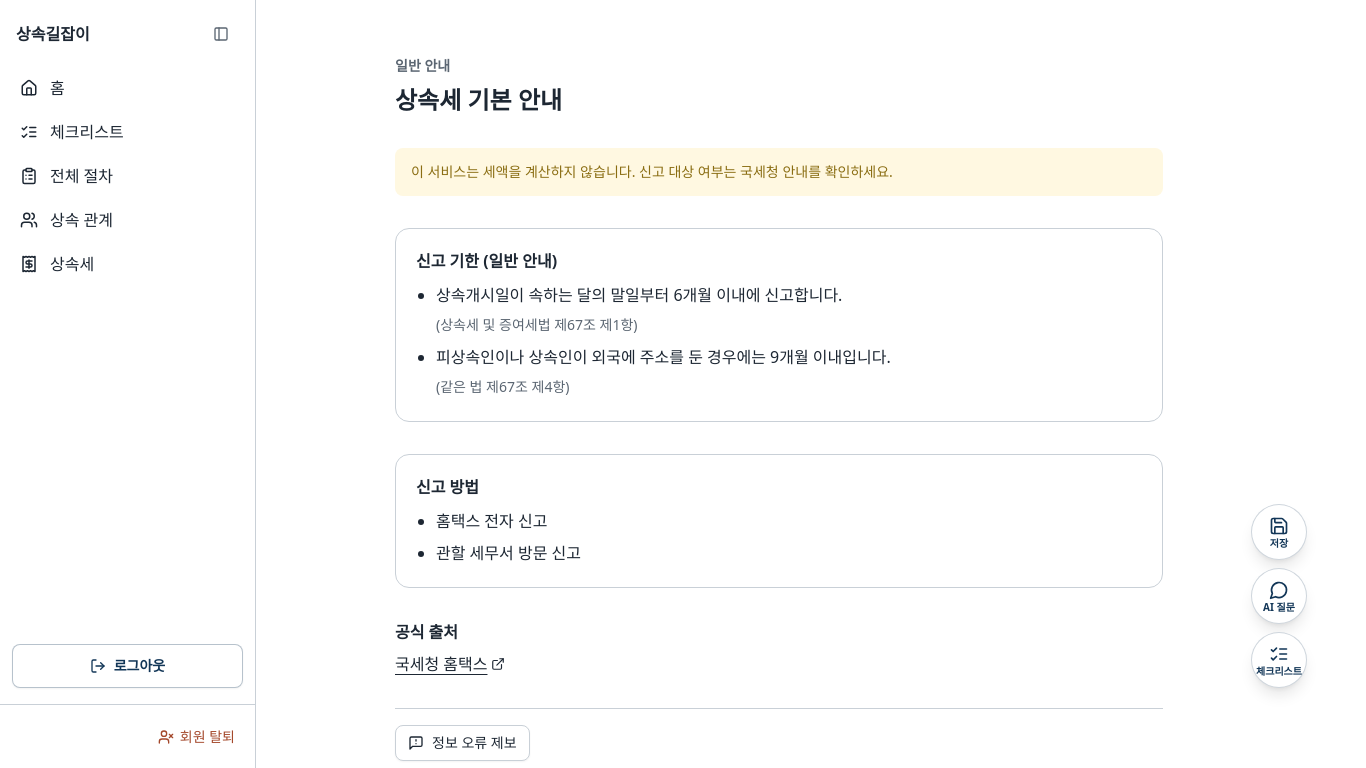
사이드바 계정 칸 › [로그아웃]을 누르면 로그아웃되고 [로그인]으로 돌아간다
Click the button "로그아웃" at {"x": 128, "y": 666}, box x1=12 y1=644 x2=243 y2=688
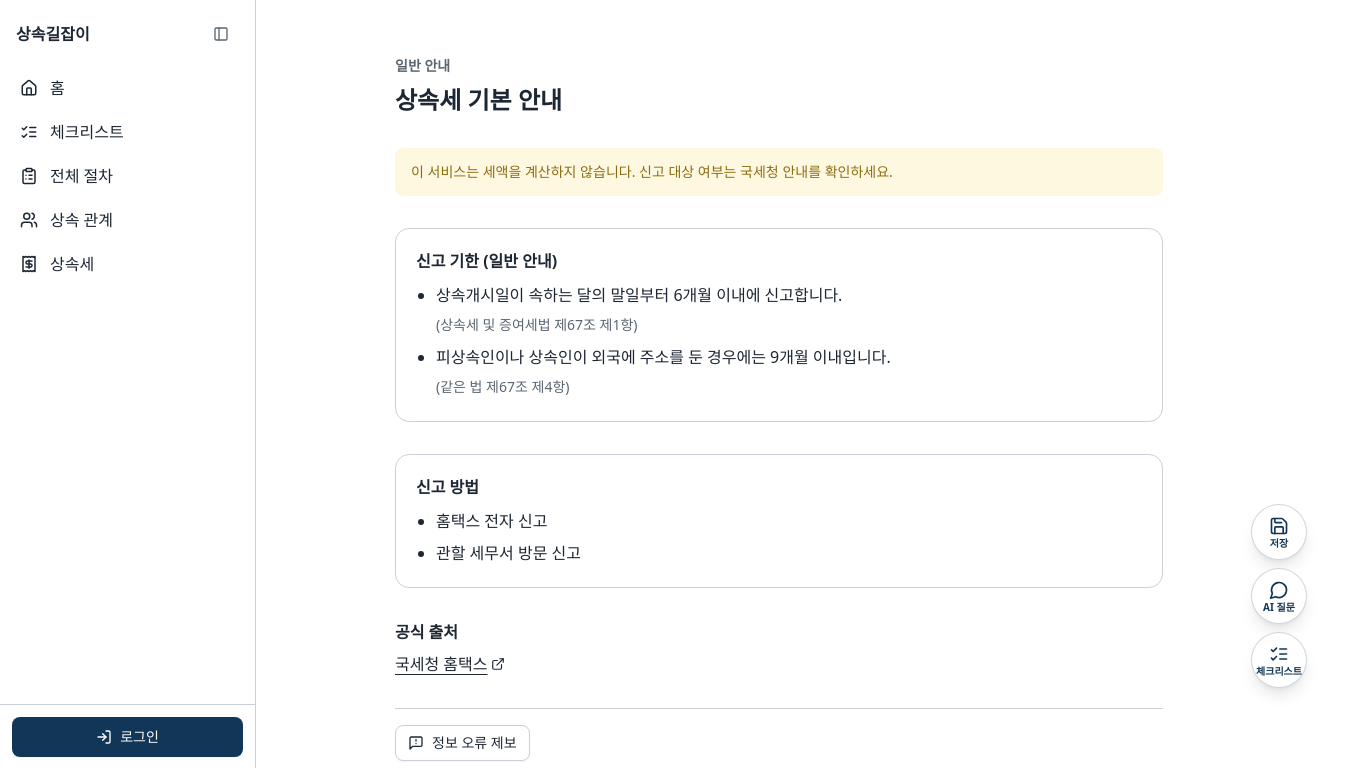
Expected: the button "로그인" is shown, x1=12 y1=716 x2=243 y2=756
